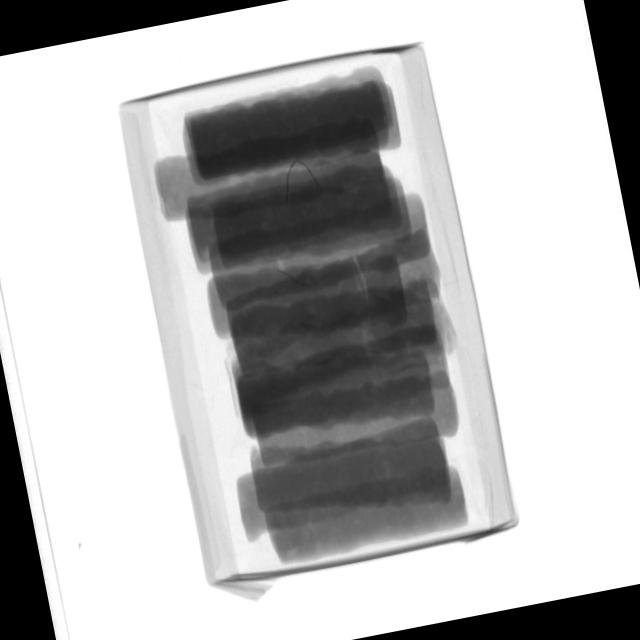ym: (278, 151, 324, 209)
